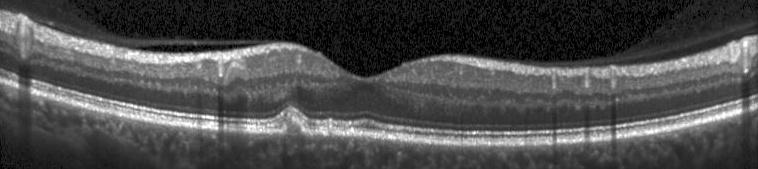retinal_drusen: (285, 116, 302, 133), (318, 124, 339, 136)
